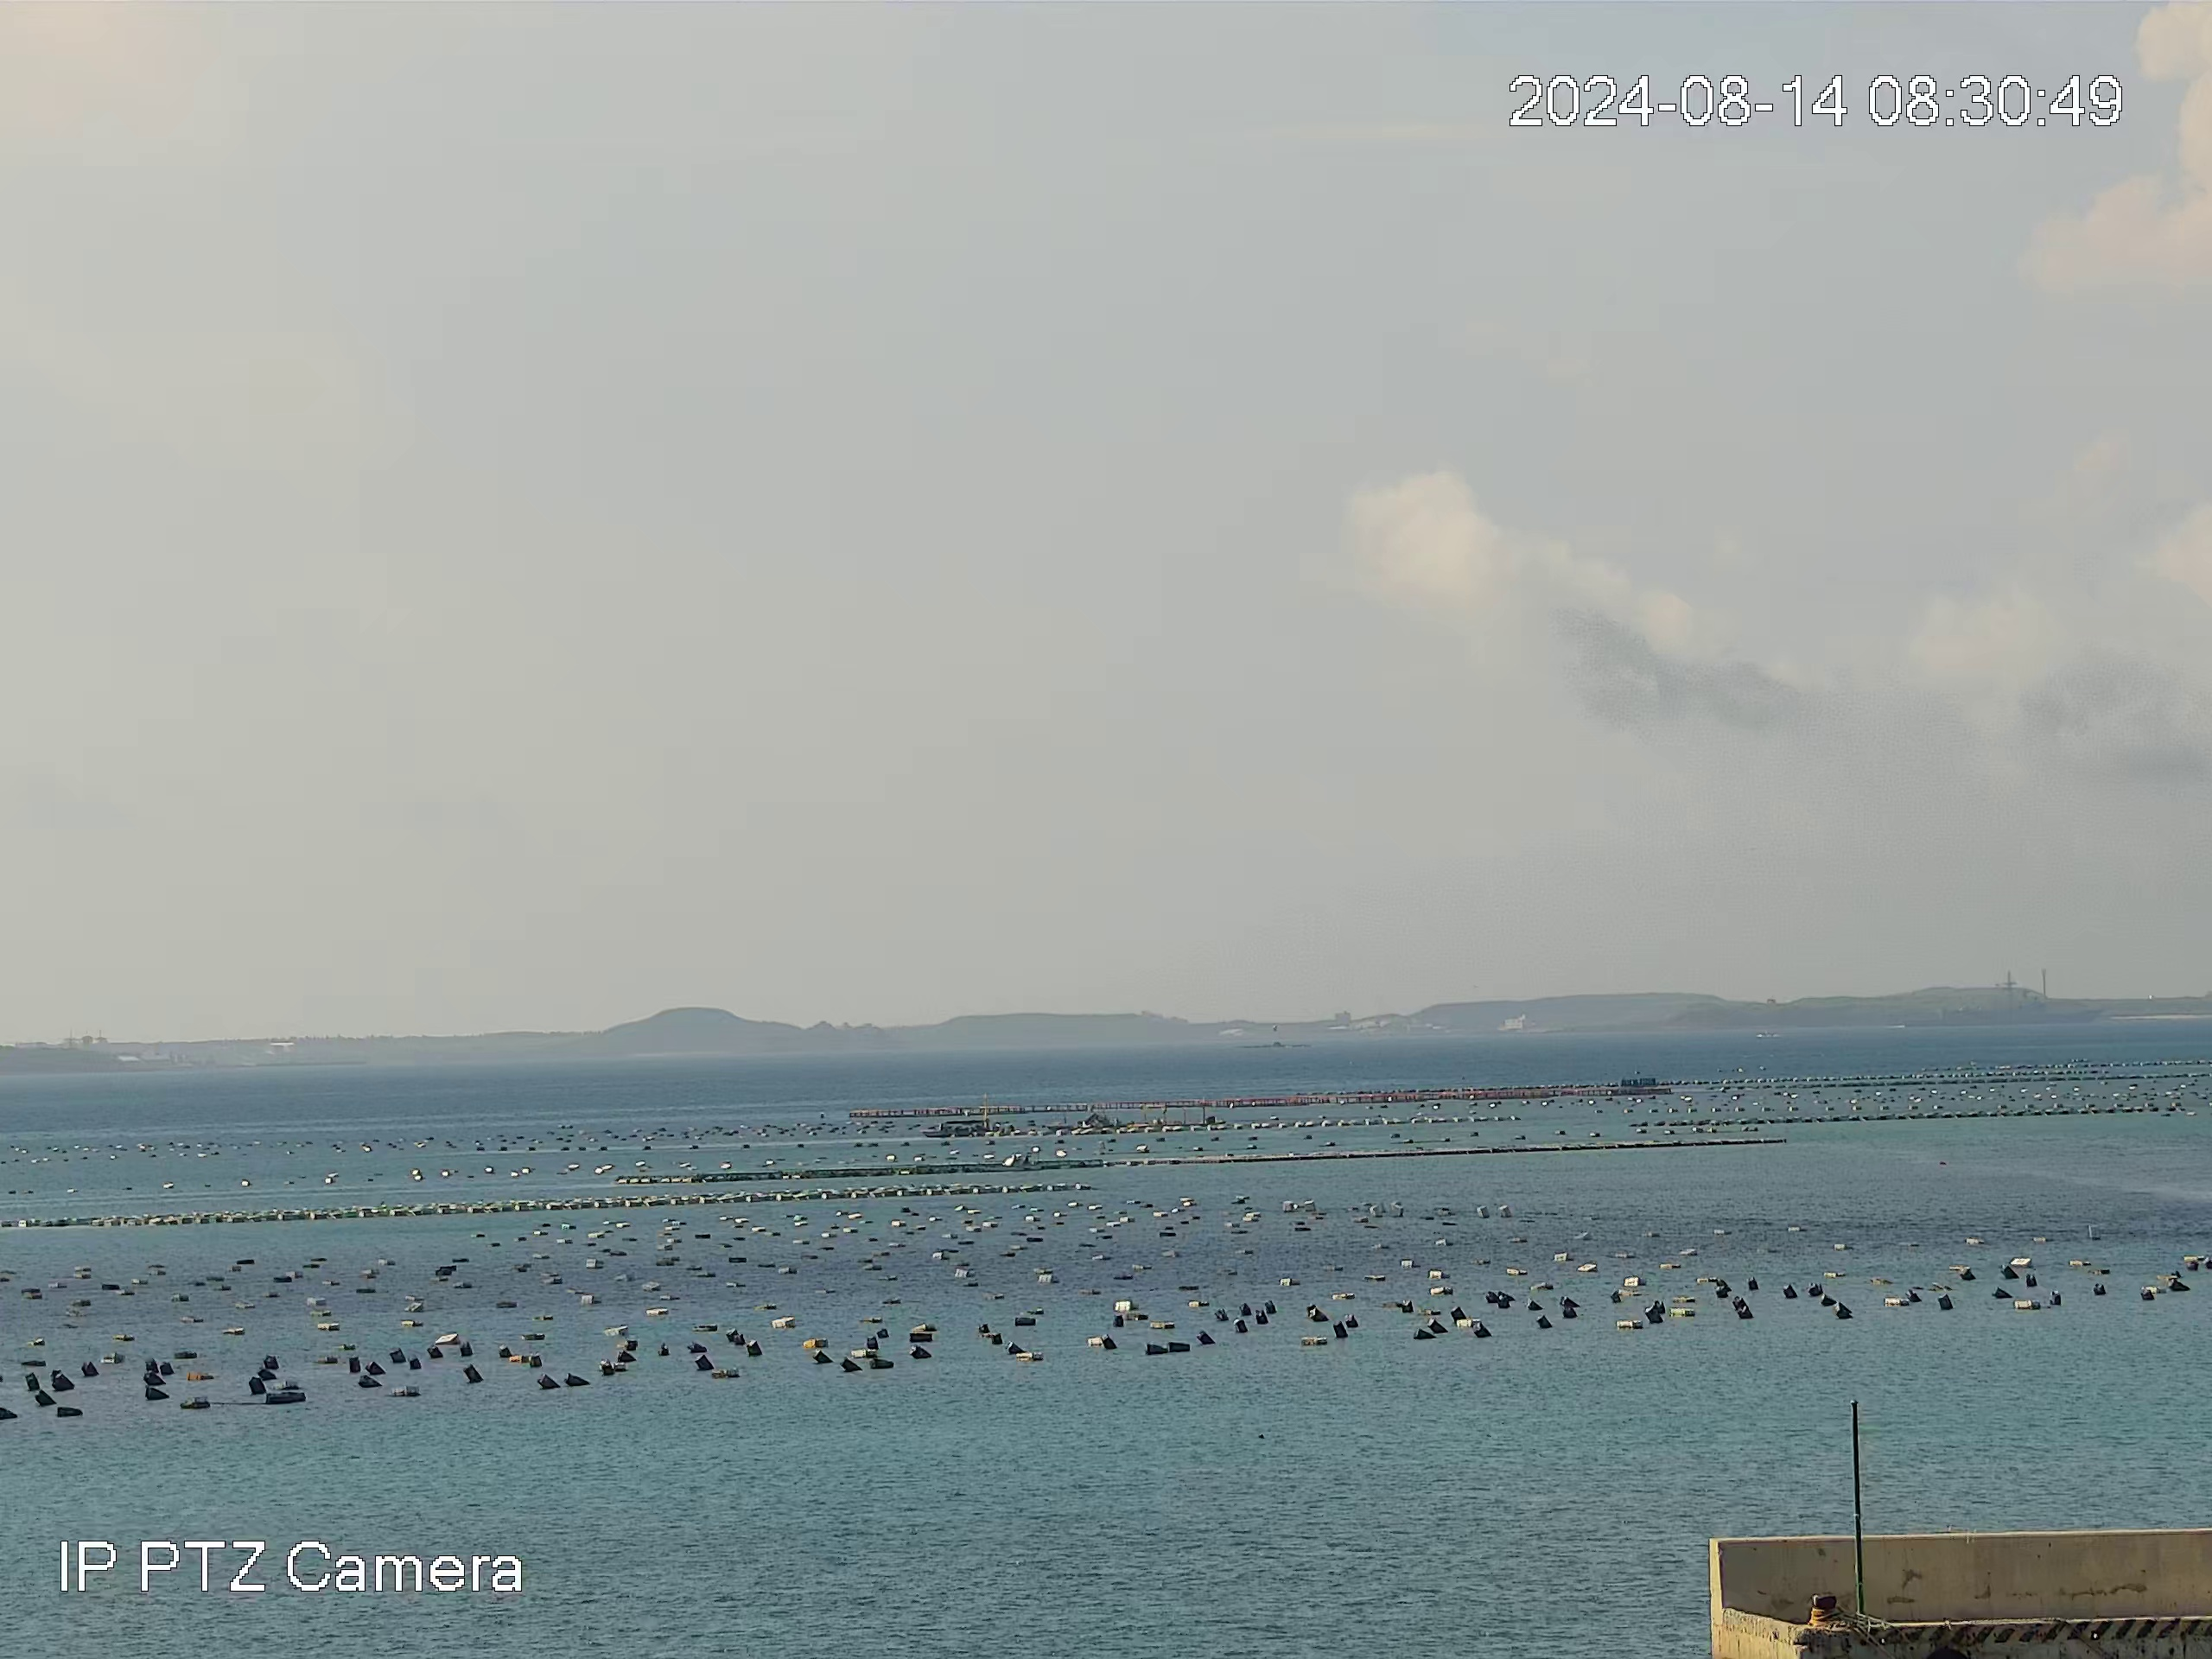boat: (920, 1121, 989, 1140)
